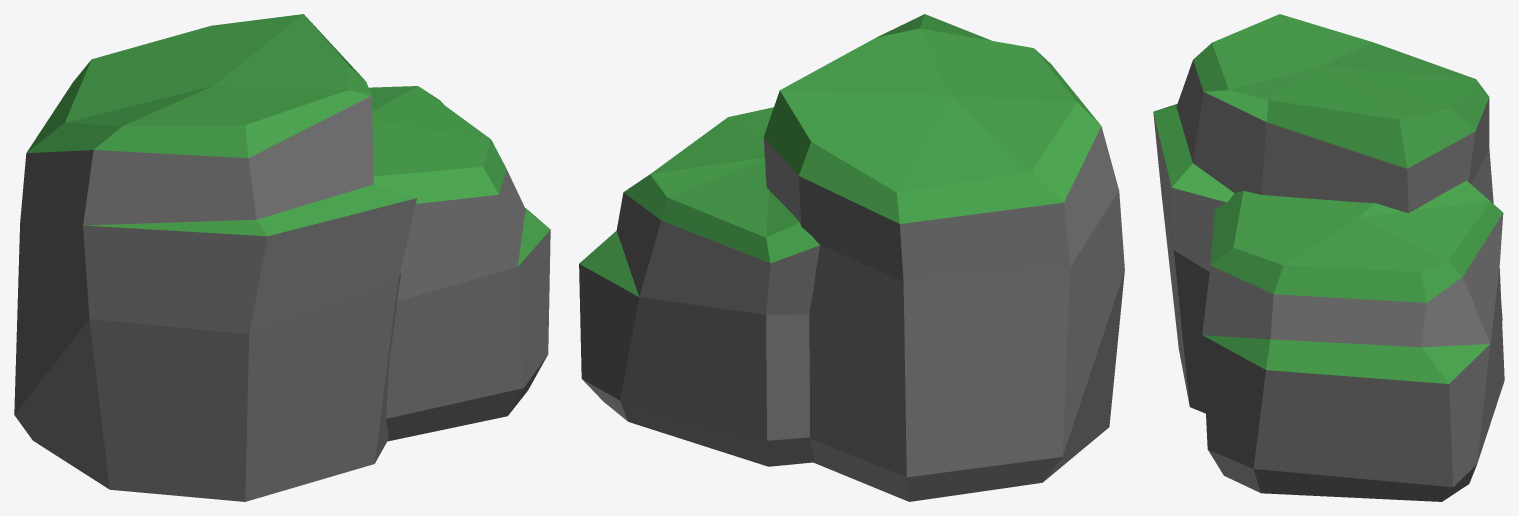
File: Rock_E.fbx
3 renders of one model, left to right at view 1: azimuth 30°, elevation 25°; view 2: azimuth 150°, elevation 25°; view 3: azimuth 270°, elevation 25°, orthographic. The views are drawn at different scales.
Parts seen in each view (by area): view 1: Rock_E; view 2: Rock_E; view 3: Rock_E.
Boxes of the visible parts, x1,y1,x2,y2 form: Rock_E: [14, 14, 550, 501]; Rock_E: [579, 14, 1124, 501]; Rock_E: [1153, 14, 1504, 501].
Size of the model in its own units: 832 by 604 by 596.
